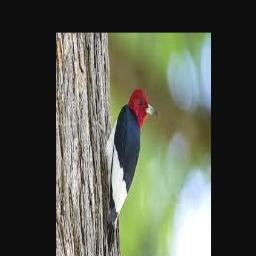Woodpecker: (97, 88, 158, 252)
